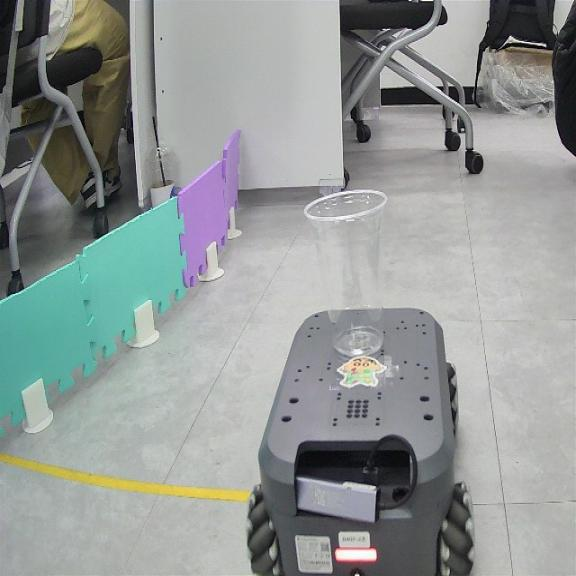Plastik: (304, 190, 387, 356)
